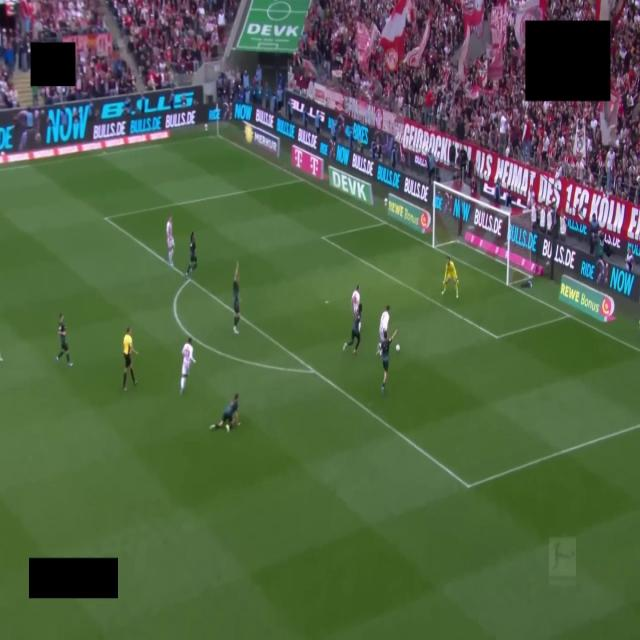ball: (396, 344, 399, 351)
player: (210, 393, 239, 431), (381, 330, 397, 393), (343, 304, 362, 354), (56, 314, 72, 367), (181, 337, 195, 394), (442, 257, 458, 297), (377, 305, 389, 355), (233, 263, 240, 334), (186, 232, 196, 277), (166, 216, 174, 266), (352, 286, 360, 315)
referee: (123, 328, 136, 391)
